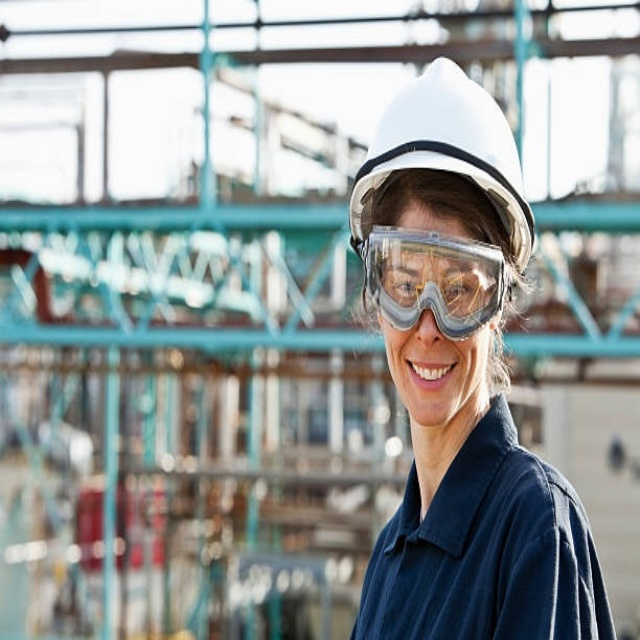Gafas: (363, 228, 508, 337)
Sin_mascara: (399, 348, 459, 413)
